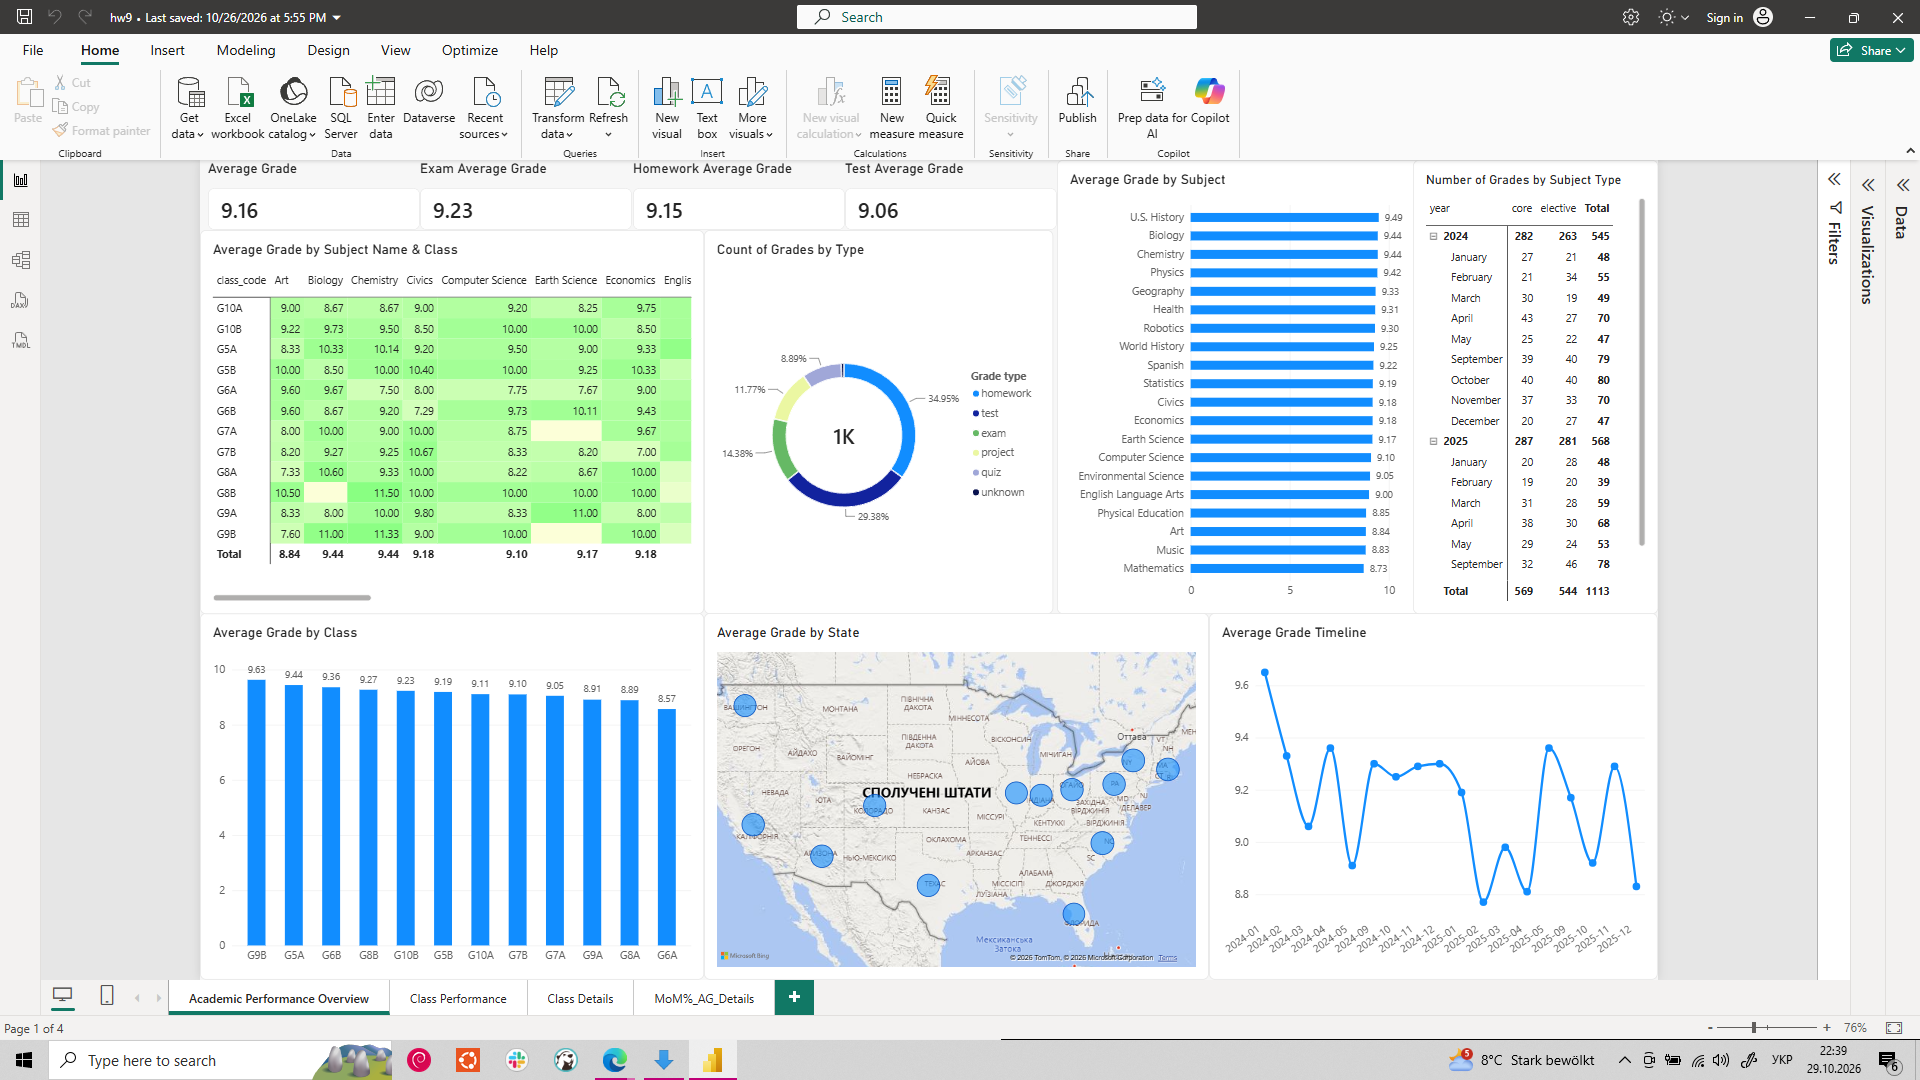

What the dashboard file says about the page in this screenshot:
{"tool":"powerbi","page":{"name":"Academic Performance Overview","canvas":[1920,1080],"ordinal":0},"visuals":[{"type":"cardVisual","title":"Average Grade","fields":{"Data":["grades.average_grade"]},"box":[10.6,0,279.6,92],"z":0},{"type":"cardVisual","title":"Exam Average Grade","fields":{"Data":["grades.exam_average_grade"]},"box":[290.2,0,279.6,92],"z":1000},{"type":"cardVisual","title":"Homework Average Grade","fields":{"Data":["grades.homework_average_grade"]},"box":[569.8,0,279.6,92],"z":2000},{"type":"cardVisual","title":"Test Average Grade","fields":{"Data":["grades.test_average_grade"]},"box":[849.4,0,279.6,92],"z":3000},{"type":"clusteredBarChart","title":"Average Grade by Subject","fields":{"Category":["subjects.subject_name"],"Y":["grades.average_grade"]},"box":[1128.7,0,480.7,598],"z":4000},{"type":"clusteredColumnChart","title":"Average Grade by Class","fields":{"Category":["classes.class_code"],"Y":["grades.average_grade"]},"box":[0,597.1,664.3,482.9],"z":5000},{"type":"lineChart","title":"Average Grade Timeline","fields":{"Category":["calendar.year_month"],"Y":["grades.average_grade"]},"box":[1328.6,597.1,591.4,482.9],"z":6000},{"type":"pivotTable","title":"Average Grade by Subject Name & Class","fields":{"Columns":["subjects.subject_name"],"Rows":["classes.class_code"],"Values":["grades.average_grade"]},"box":[0,92.2,663.8,505.8],"z":7000},{"type":"donutChart","title":"Count of Grades by Type","fields":{"Category":["grades.grade_type"],"Y":["grades.count_of_grades"]},"box":[663.8,92.2,459.7,505.8],"z":8000},{"type":"pivotTable","title":"Number of Grades by Subject Type","fields":{"Columns":["subjects.subject_type"],"Rows":["calendar.year","calendar.month_name"],"Values":["grades.count_of_grades"]},"box":[1597.6,0,322.7,598],"z":9000},{"type":"map","title":"Average Grade by State","fields":{"Category":["students.state"],"Size":["grades.average_grade"]},"box":[663.8,596.6,665.1,483.4],"z":10000}]}

Visuals, with their boxes on the page's 1920x1080 design canvas (x1, y1, x2, y2). These are canvas units, not pixel positions in the 1920x1080 screenshot, which may show the page scaled, cropped or inside an application window:
"Average Grade" cardVisual: [left=11, top=0, right=290, bottom=92]
"Exam Average Grade" cardVisual: [left=290, top=0, right=570, bottom=92]
"Homework Average Grade" cardVisual: [left=570, top=0, right=849, bottom=92]
"Test Average Grade" cardVisual: [left=849, top=0, right=1129, bottom=92]
"Average Grade by Subject" clusteredBarChart: [left=1129, top=0, right=1609, bottom=598]
"Average Grade by Class" clusteredColumnChart: [left=0, top=597, right=664, bottom=1080]
"Average Grade Timeline" lineChart: [left=1329, top=597, right=1920, bottom=1080]
"Average Grade by Subject Name & Class" pivotTable: [left=0, top=92, right=664, bottom=598]
"Count of Grades by Type" donutChart: [left=664, top=92, right=1124, bottom=598]
"Number of Grades by Subject Type" pivotTable: [left=1598, top=0, right=1920, bottom=598]
"Average Grade by State" map: [left=664, top=597, right=1329, bottom=1080]
